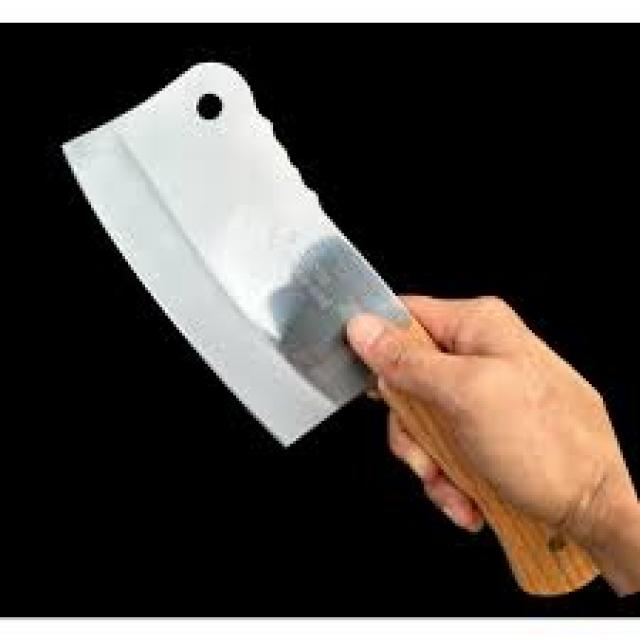Knife: (63, 63, 432, 444)
